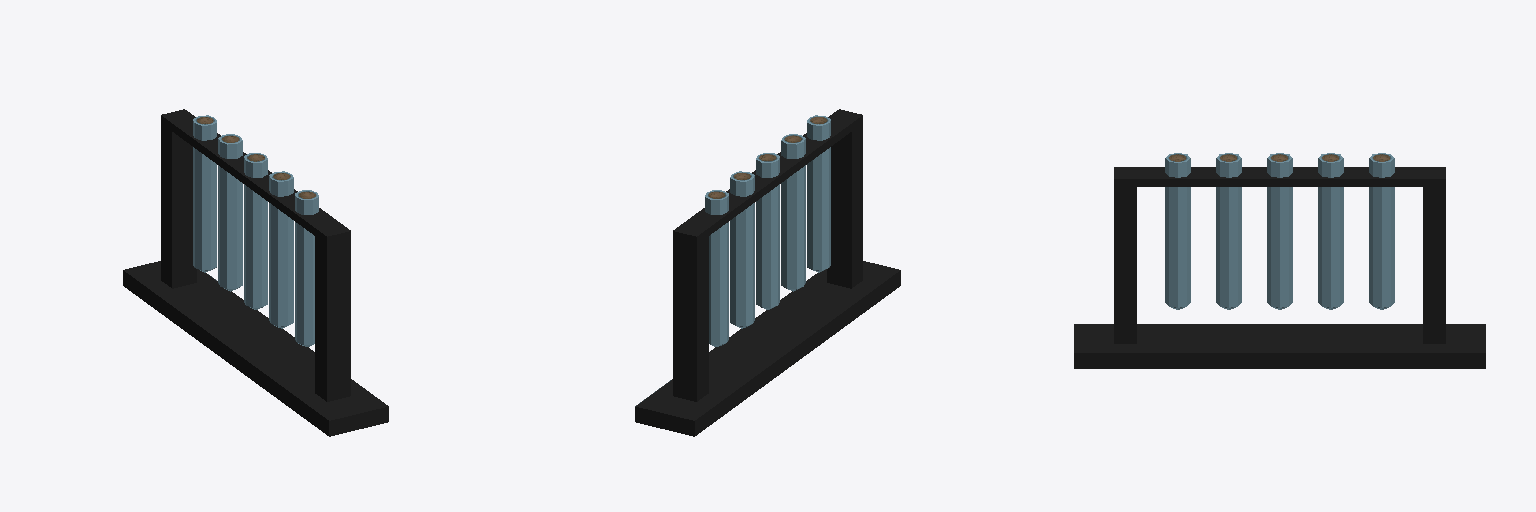
3 renders of one model, left to right at view 1: azimuth 30°, elevation 25°; view 2: azimuth 150°, elevation 25°; view 3: azimuth 270°, elevation 25°, orthographic.
Visible parts, largest first — view 1: vialrack_Cube.028_None; view 2: vialrack_Cube.028_None; view 3: vialrack_Cube.028_None.
Boxes of the visible parts, <box> form: vialrack_Cube.028_None: <box>123,109,388,436</box>; vialrack_Cube.028_None: <box>635,109,900,436</box>; vialrack_Cube.028_None: <box>1074,153,1485,368</box>.
Bounding box in the file's own units: 0.1488 × 0.4667 × 0.8901.
Materials: 1 (1 with a texture image).